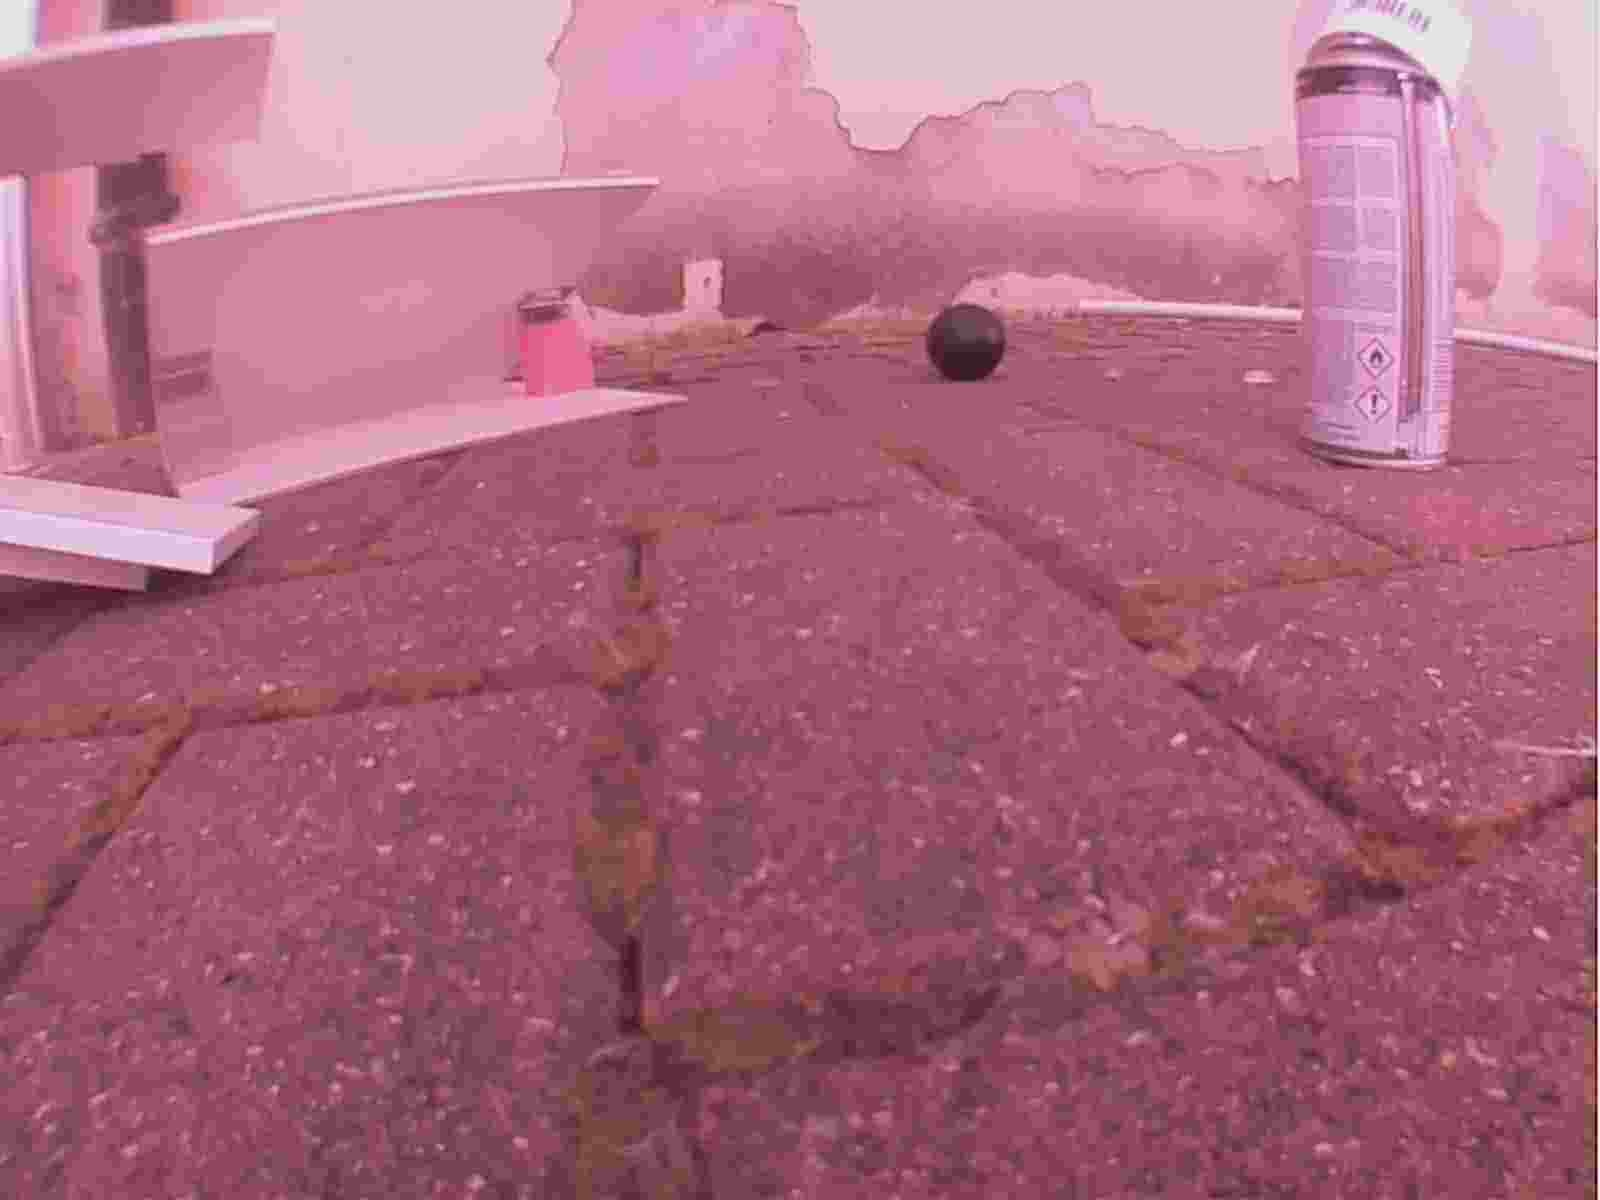nera: (926, 303, 1010, 386)
